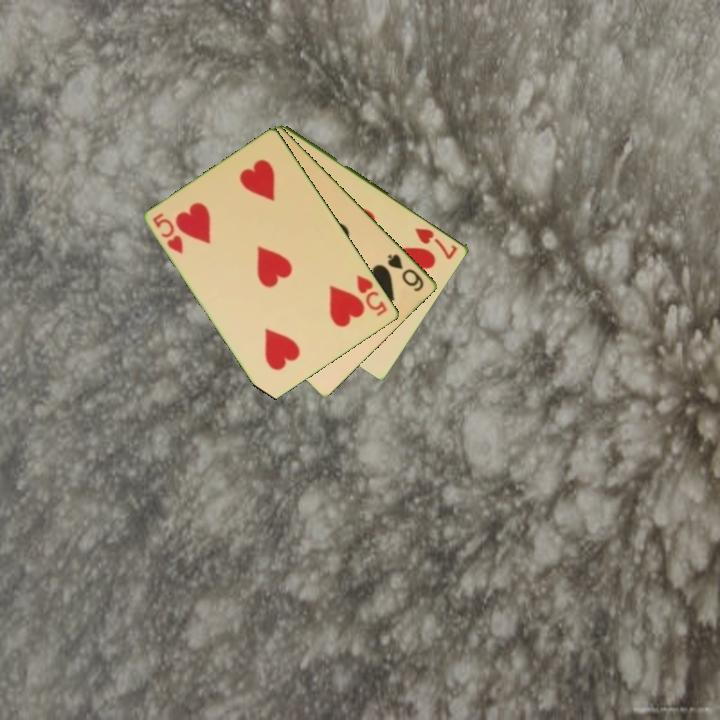5h: (353, 271, 391, 320), (149, 209, 187, 256)
6s: (384, 250, 427, 294)
7h: (411, 224, 461, 262)
